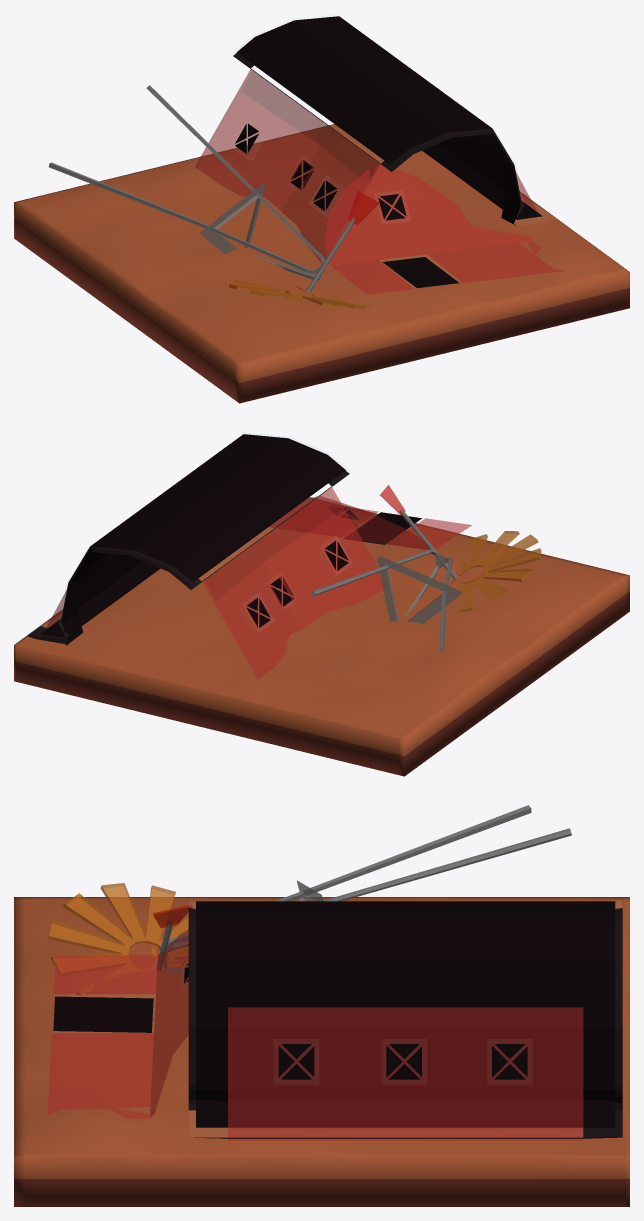
Rendered from celeiro-destroied.fbx.
3 views of the same model, one above another, from view 1: azimuth 30°, elevation 25°; view 2: azimuth 150°, elevation 25°; view 3: azimuth 270°, elevation 25° (orthographic). The views are drawn at different scales.
Visible parts, largest first — view 1: terreno, celeiro, celeiro.001, moinho, moinho.001; view 2: terreno, celeiro, celeiro.001, moinho, moinho.001; view 3: celeiro, terreno, celeiro.002, celeiro.001, moinho.001, moinho.
Boxes of the visible parts, x1,y1,x2,y2 form: terreno: (14, 124, 629, 403); celeiro: (195, 16, 553, 263); celeiro.001: (324, 163, 563, 294); moinho: (48, 85, 379, 295); moinho.001: (225, 280, 372, 309); terreno: (14, 497, 629, 776); celeiro: (27, 434, 383, 679); celeiro.001: (269, 496, 471, 550); moinho: (310, 485, 469, 651); moinho.001: (446, 531, 541, 611); celeiro: (188, 901, 622, 1138); terreno: (14, 897, 629, 1206); celeiro.002: (228, 1007, 583, 1140); celeiro.001: (47, 929, 188, 1118); moinho.001: (48, 883, 188, 995); moinho: (149, 805, 571, 973).
Size of the model in its own units: 601 by 227 by 597.
